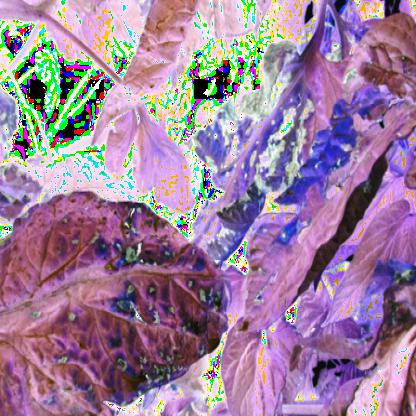Tomato Early blight leaf: (11, 191, 234, 405)
